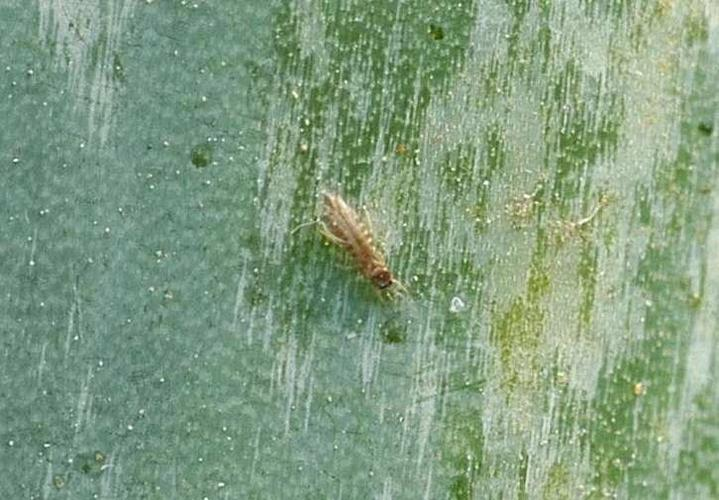Thripidae: (304, 178, 409, 304)
